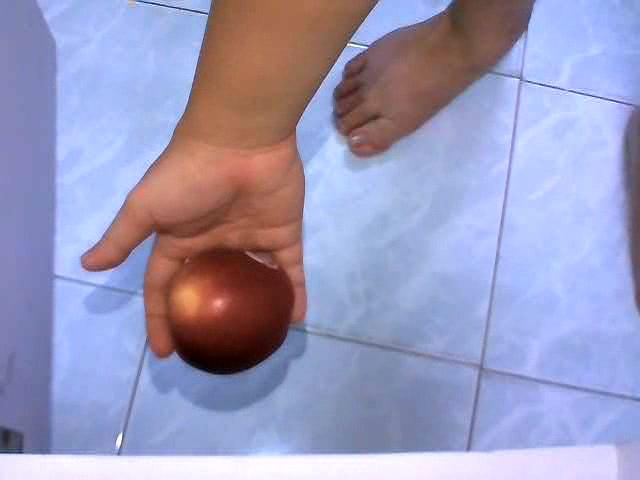apple: (163, 245, 296, 376)
